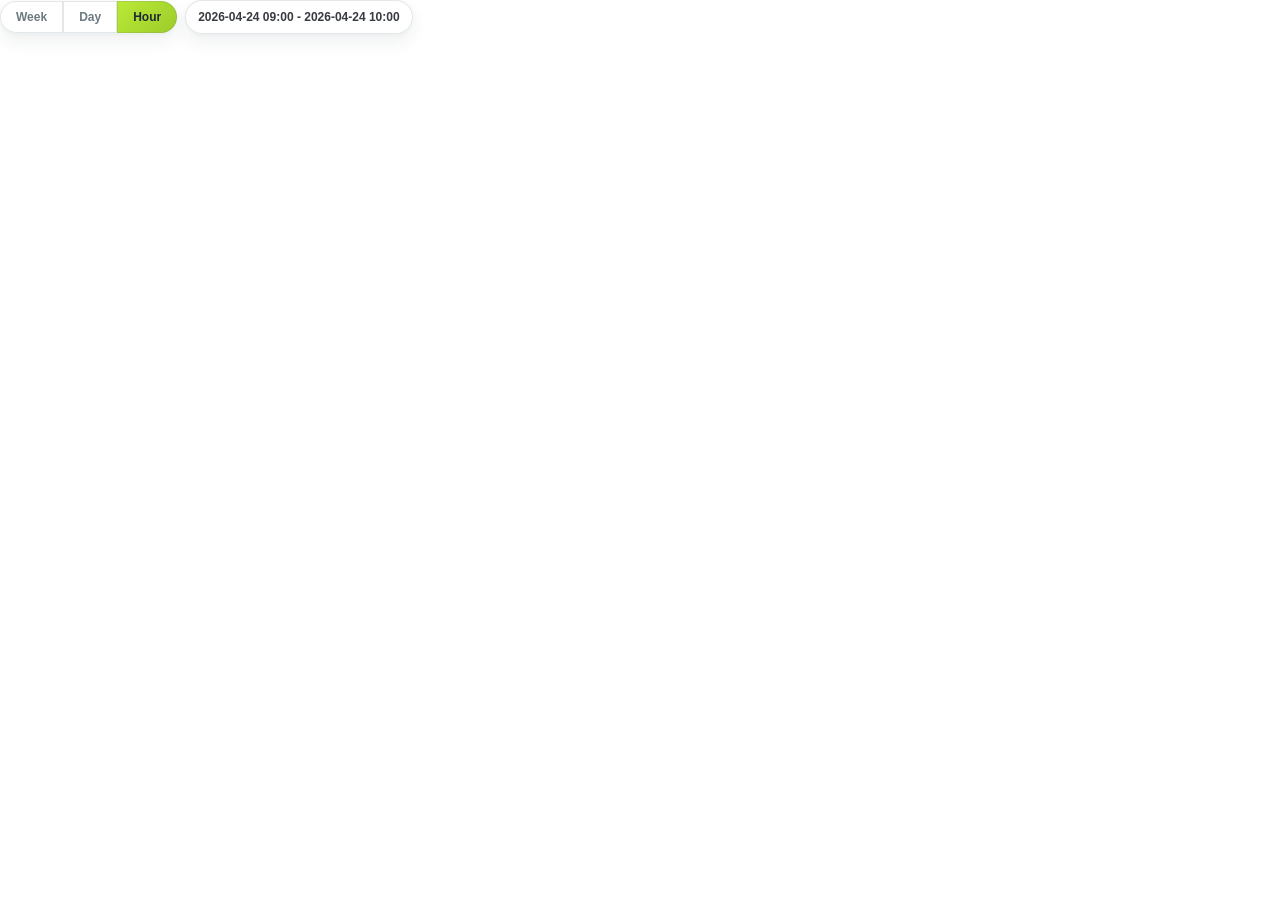
MetricRangeSelector.vue › keeps dialog open when the custom range is invalid
This screenshot has width=1280, height=900.
Click the button with test id "metric-range-custom-button": [299, 17] box [185,0,413,34]
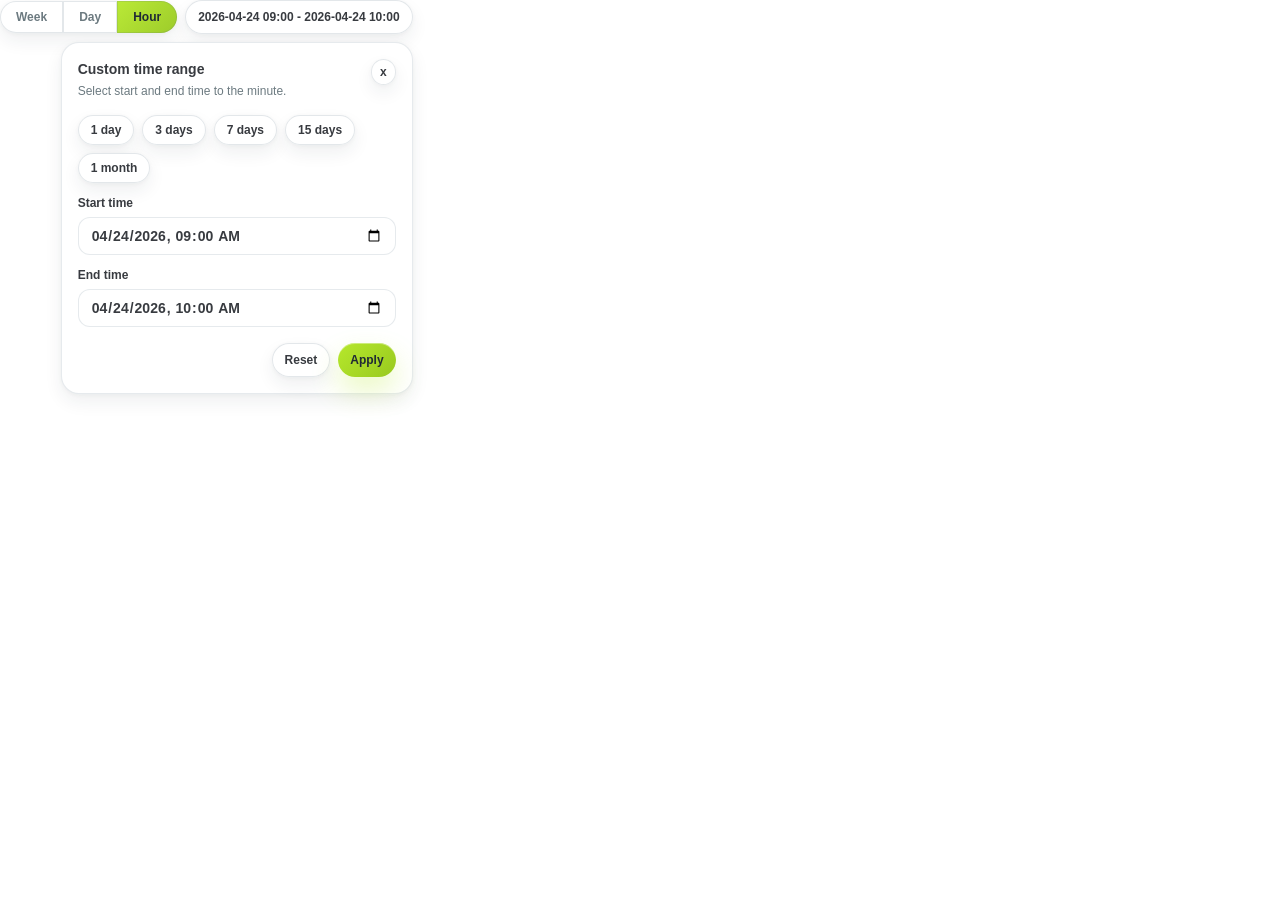
Replace the text in the field with test id "metric-range-start" with "2026-04-24T12:00": [237, 236] box [78,217,396,255]
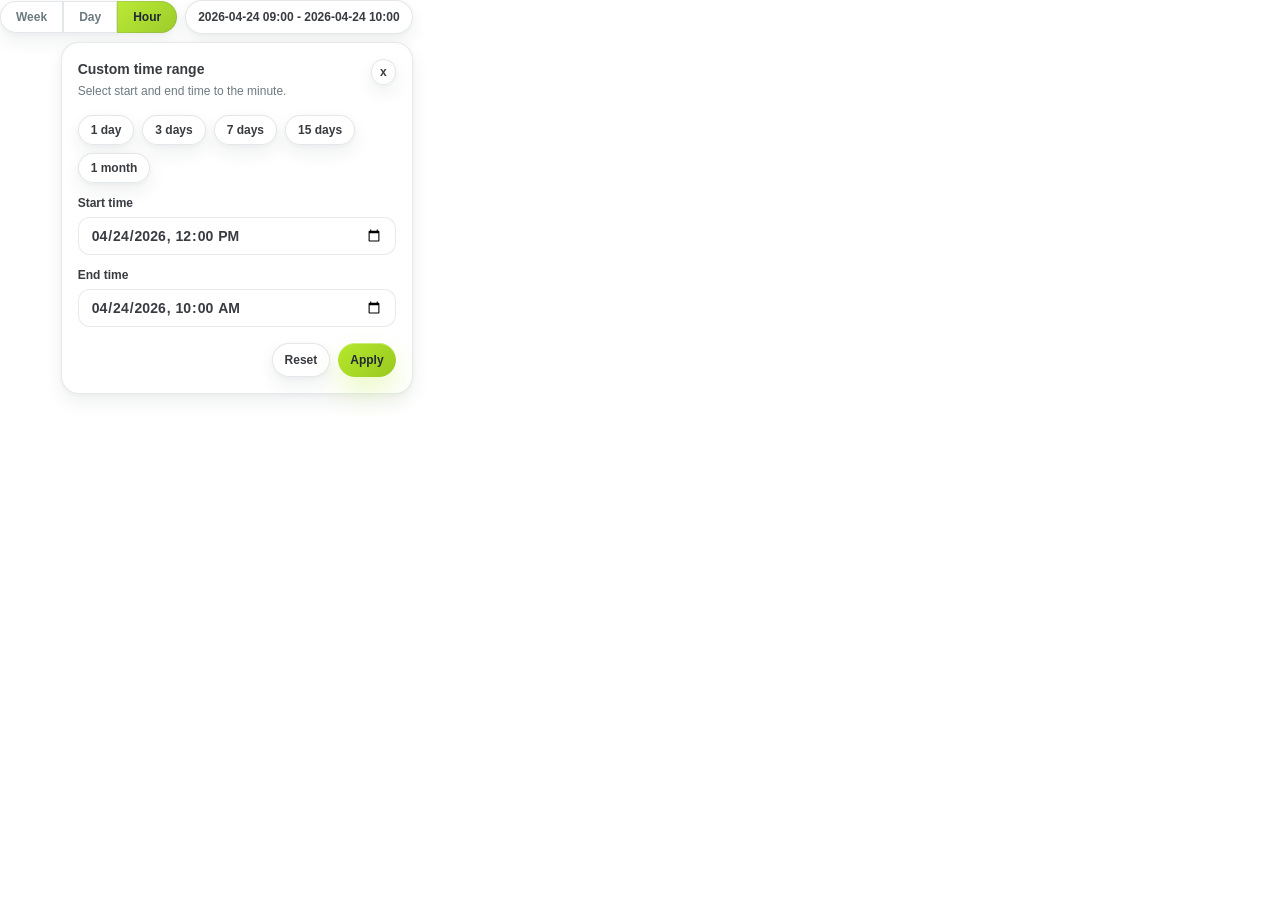
Replace the text in the field with test id "metric-range-end" with "2026-04-24T11:00": [237, 308] box [78,289,396,327]
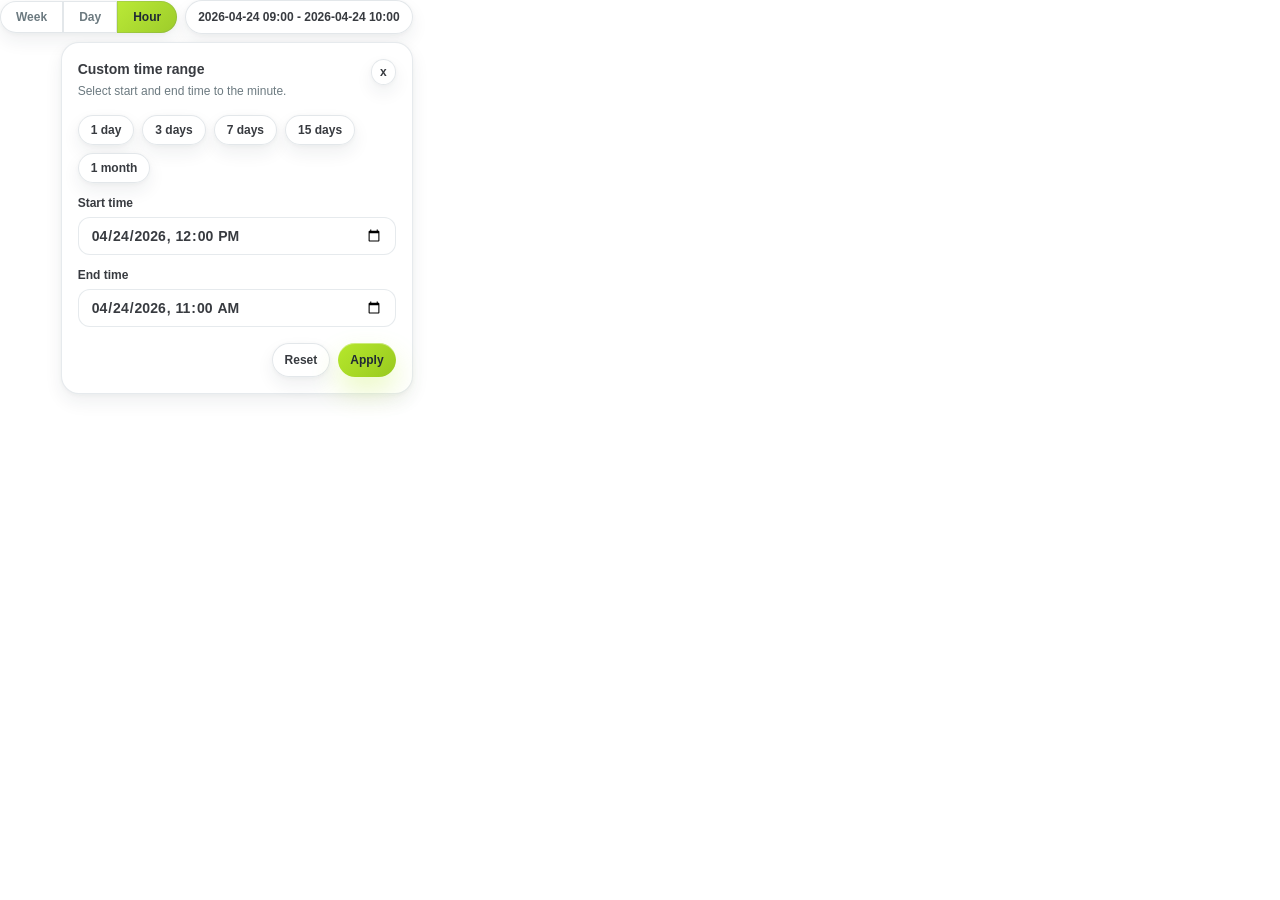
Click the button with test id "metric-range-apply": [367, 360] box [338,343,396,377]
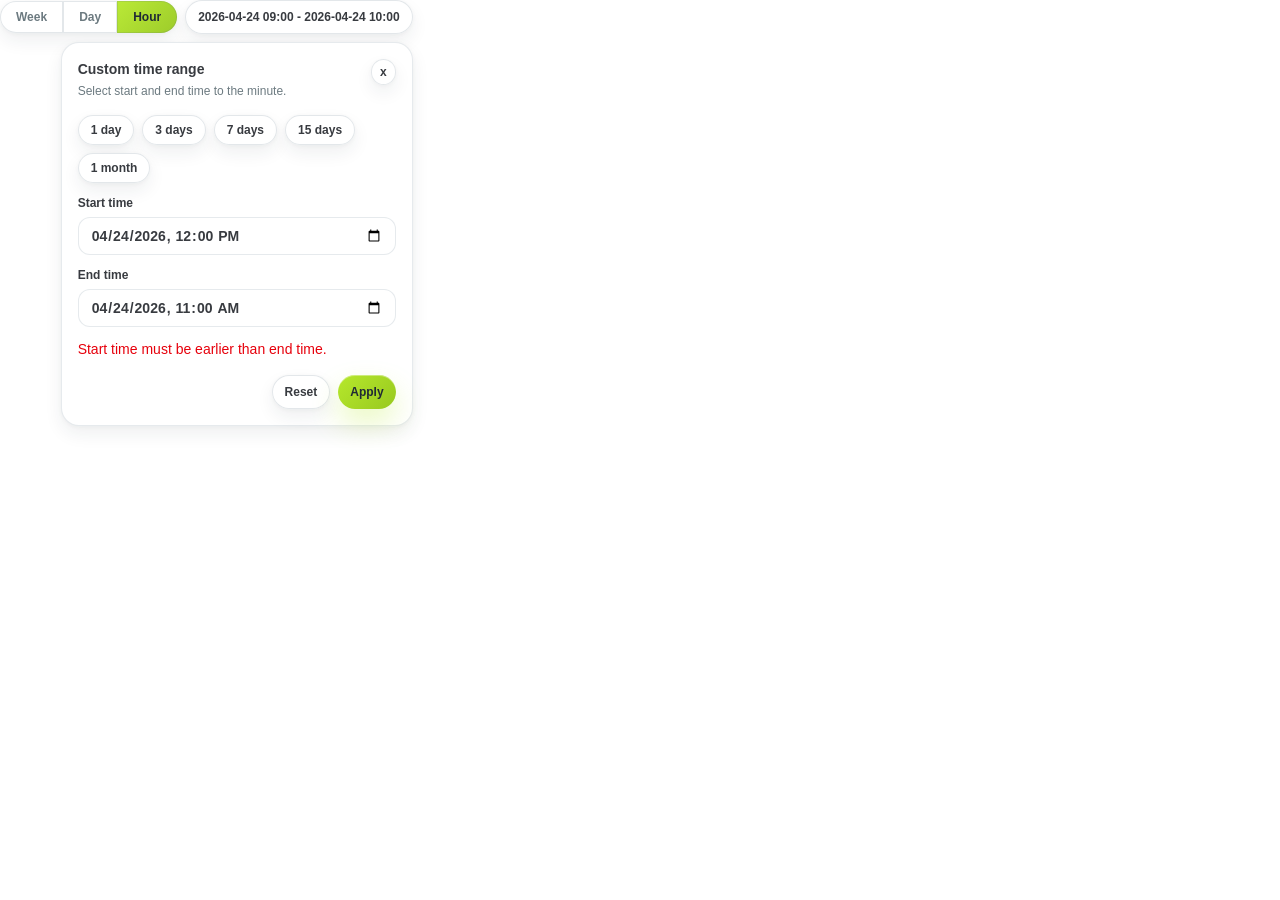
Now the dialog with test id "metric-range-dialog" is shown, box [61,42,413,426]
Now the text "Start time must be earlier than end time." is shown, box [78,341,327,357]
